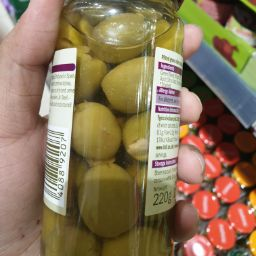Olives: (81, 54, 145, 256), (86, 41, 151, 172), (77, 161, 140, 241), (66, 16, 169, 53), (79, 82, 122, 164), (99, 51, 151, 118), (116, 213, 185, 256), (46, 210, 104, 256)
